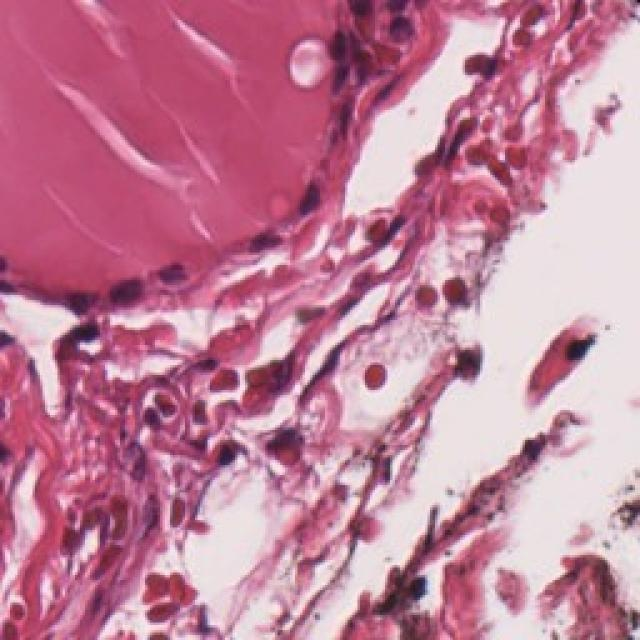normal: (266, 149, 349, 248), (340, 59, 420, 140), (134, 239, 203, 331), (48, 268, 113, 330)
